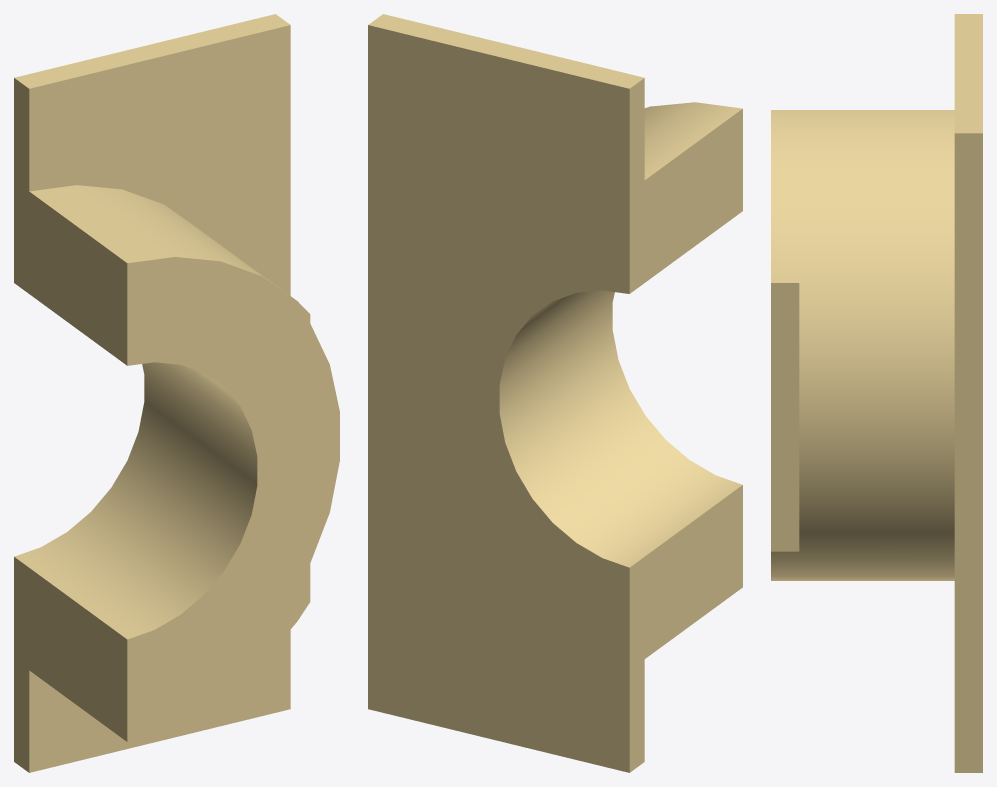
3 renders of one model, left to right at view 1: azimuth 30°, elevation 25°; view 2: azimuth 150°, elevation 25°; view 3: azimuth 270°, elevation 25°, orthographic. The views are drawn at different scales.
Parts seen in each view (by area): view 1: mesh91217, mesh91212, mesh91213, mesh91214, mesh91215, mesh91211, mesh91209, mesh91219; view 2: mesh91216, mesh91213, mesh91214, mesh91215, mesh91219, mesh91211; view 3: mesh91211, mesh91218, mesh91210, mesh91219.
Boxes of the visible parts, left/top/right/bottom form: mesh91217: left=29, top=25, right=290, bottom=772; mesh91212: left=127, top=257, right=310, bottom=741; mesh91213: left=14, top=362, right=257, bottom=639; mesh91214: left=14, top=557, right=127, bottom=772; mesh91215: left=14, top=78, right=127, bottom=365; mesh91211: left=29, top=185, right=292, bottom=297; mesh91209: left=310, top=324, right=339, bottom=562; mesh91219: left=14, top=14, right=289, bottom=88; mesh91216: left=368, top=25, right=629, bottom=772; mesh91213: left=499, top=290, right=742, bottom=567; mesh91214: left=629, top=485, right=742, bottom=772; mesh91215: left=629, top=78, right=742, bottom=293; mesh91219: left=368, top=14, right=644, bottom=88; mesh91211: left=644, top=102, right=742, bottom=179; mesh91211: left=771, top=110, right=954, bottom=580; mesh91218: left=954, top=133, right=982, bottom=772; mesh91210: left=771, top=283, right=799, bottom=551; mesh91219: left=954, top=14, right=982, bottom=133.
Size of the model in its own units: 0.0004 by 0.001 by 0.0003.
